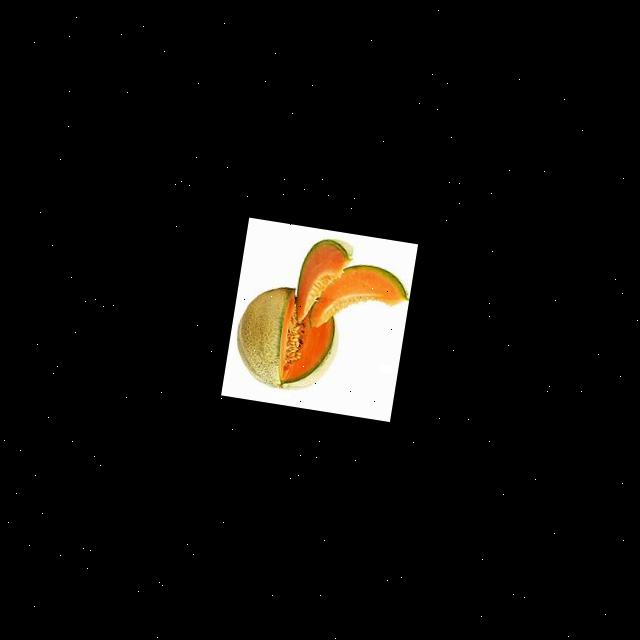Hami Melon: (230, 281, 344, 396), (304, 256, 413, 343), (294, 236, 352, 330)
